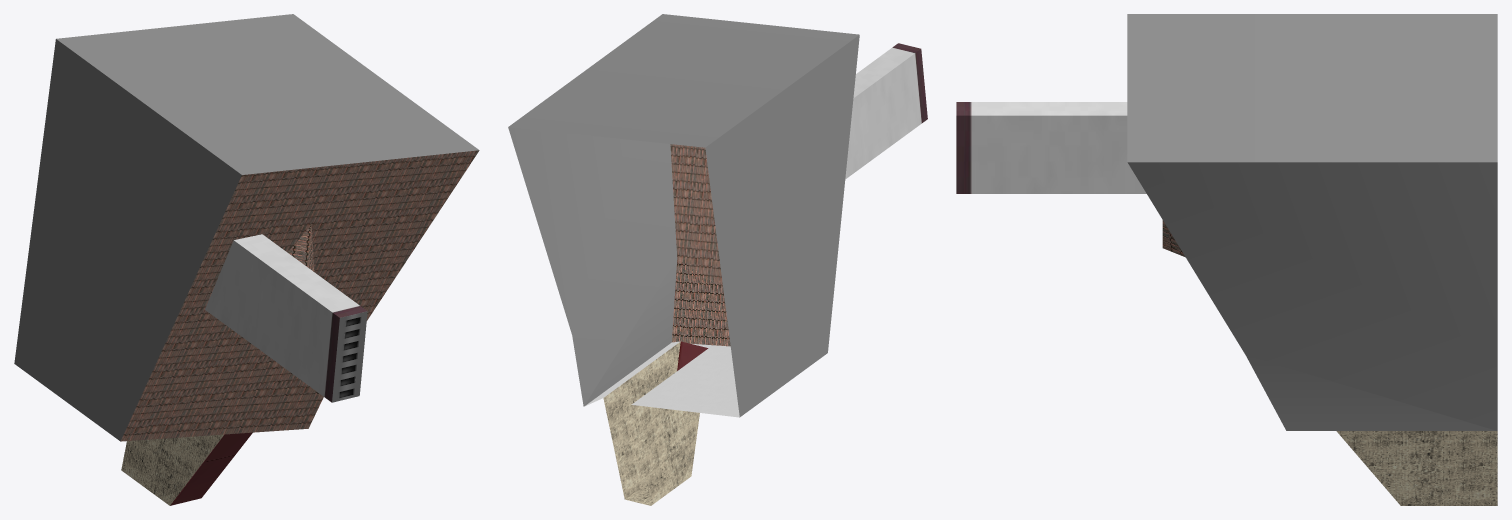
File: Raekoja_Plats_18-origo.obj
3 renders of one model, left to right at view 1: azimuth 30°, elevation 25°; view 2: azimuth 150°, elevation 25°; view 3: azimuth 270°, elevation 25°, orthographic. The views are drawn at different scales.
Parts seen in each view (by area): view 1: Raekoja_Plats_18; view 2: Raekoja_Plats_18; view 3: Raekoja_Plats_18.
Boxes of the visible parts, box(x1,y1,x2,y2) form: Raekoja_Plats_18: box(14, 14, 479, 505); Raekoja_Plats_18: box(508, 14, 927, 505); Raekoja_Plats_18: box(956, 14, 1497, 505).
Bounding box in the file's own units: 8.81 × 13.5 × 14.88.
